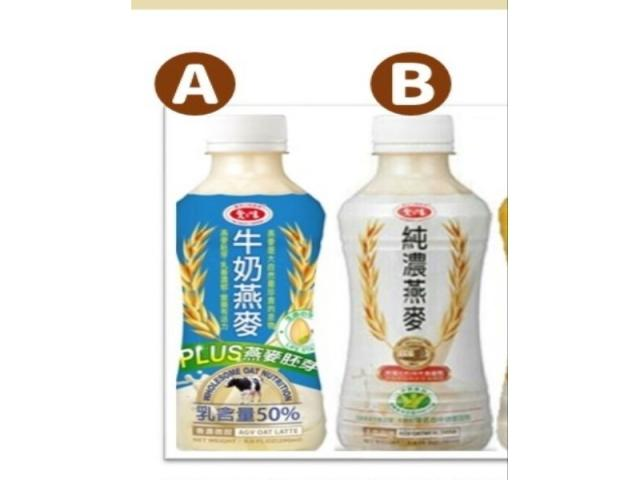bottle: (338, 116, 492, 450), (175, 115, 326, 450)
